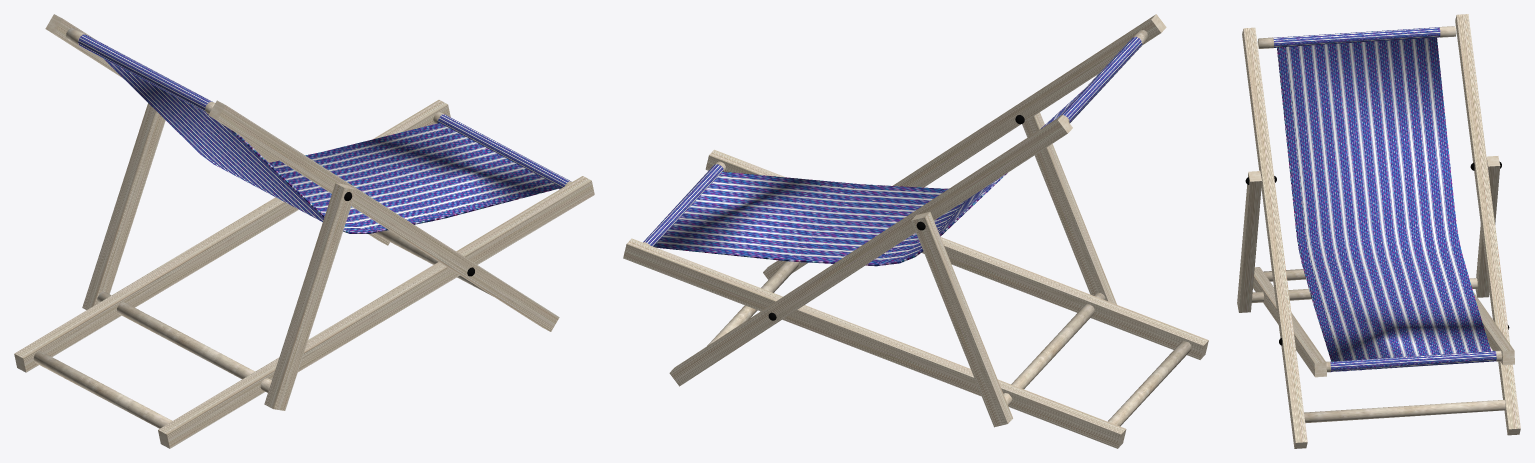
File: beachChairA.glb
The picture shows the model from 3 angles, left to right: view 1: azimuth 30°, elevation 25°; view 2: azimuth 150°, elevation 25°; view 3: azimuth 270°, elevation 25°; orthographic projection. The views are drawn at different scales.
Parts seen in each view (by area): view 1: Cube_frame_0, Cylinder.003_chair1_0; view 2: Cube_frame_0, Cylinder.003_chair1_0; view 3: Cylinder.003_chair1_0, Cube_frame_0.
Part boxes in pixels (x1,y1,x2,y2): Cube_frame_0: (14, 14, 594, 448); Cylinder.003_chair1_0: (78, 34, 571, 233); Cube_frame_0: (623, 14, 1208, 448); Cylinder.003_chair1_0: (643, 36, 1142, 266); Cylinder.003_chair1_0: (1273, 27, 1496, 372); Cube_frame_0: (1237, 14, 1520, 448).
Bounding box in the file's own units: 3.19 × 2.05 × 1.9.
3 materials, 2 textured.
